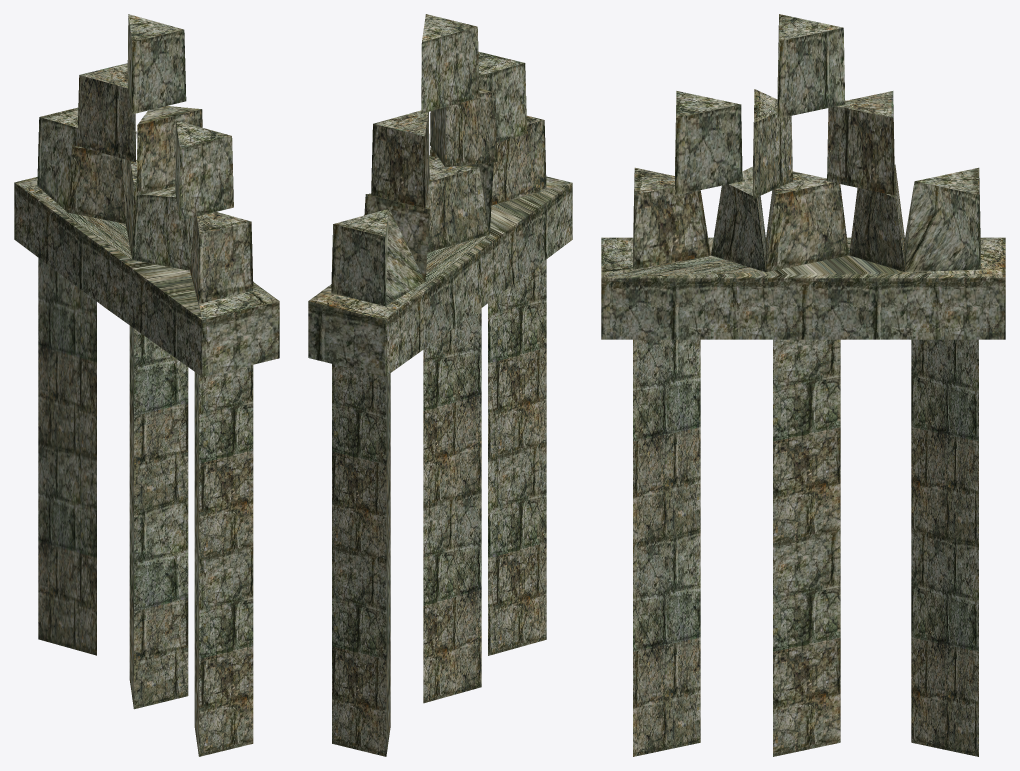
The model's file is thm_nboo_gungan_relic_s02_l2.fbx.
3 views of the same model, side by side, from view 1: azimuth 30°, elevation 25°; view 2: azimuth 150°, elevation 25°; view 3: azimuth 270°, elevation 25° (orthographic). The views are drawn at different scales.
Visible parts, largest first — view 1: mesh_node; view 2: mesh_node; view 3: mesh_node.
Part boxes in pixels (bbox=[...]): mesh_node: bbox=[14, 14, 279, 756]; mesh_node: bbox=[308, 14, 572, 756]; mesh_node: bbox=[601, 14, 1005, 756].
Size of the model in its own units: 3.17 by 25.43 by 13.04.
Materials: 1 (1 with a texture image).
